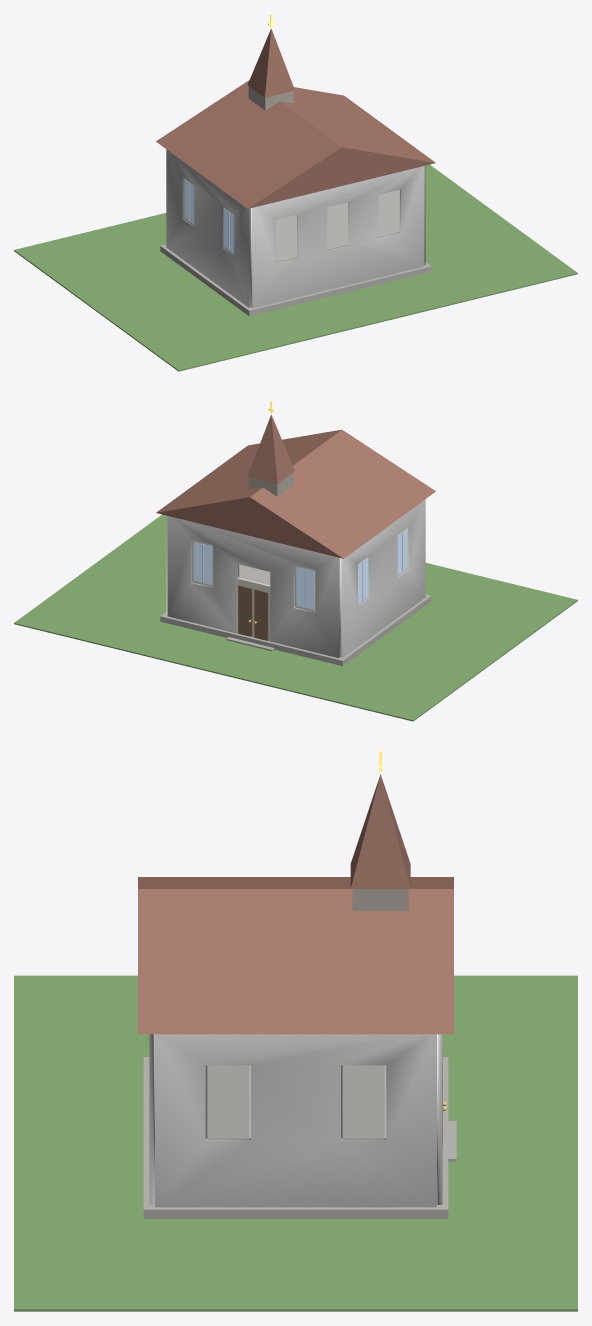
The model's file is church_small.glb.
3 renders of one model, top to bottom at view 1: azimuth 30°, elevation 25°; view 2: azimuth 150°, elevation 25°; view 3: azimuth 270°, elevation 25°, orthographic. The views are drawn at different scales.
Visible parts, largest first — view 1: ground, roof, back_wall, left_wall, frame (×3), foundation, steeple_spire, steeple_base; view 2: ground, roof, front_wall, left_wall, frame (×5), glass (×4), foundation, steeple_spire, panel_l, panel_r, steeple_base, floor; view 3: ground, roof, right_wall, frame (×2), foundation, steeple_spire, steeple_base, front_wall, back_wall.
Part boxes in pixels (x1,y1,x2,y2): ground: [14, 164, 577, 371]; roof: [156, 80, 435, 208]; back_wall: [251, 166, 424, 308]; left_wall: [166, 149, 251, 307]; frame (×3): [276, 189, 399, 262]; foundation: [160, 244, 431, 316]; steeple_spire: [247, 28, 294, 97]; steeple_base: [248, 86, 293, 110]; ground: [14, 514, 577, 721]; roof: [156, 429, 435, 558]; front_wall: [167, 516, 340, 658]; left_wall: [340, 499, 425, 657]; frame (×5): [192, 527, 408, 639]; glass (×4): [193, 529, 407, 610]; foundation: [160, 594, 431, 666]; steeple_spire: [247, 414, 294, 483]; panel_l: [254, 589, 268, 640]; panel_r: [238, 585, 252, 636]; steeple_base: [248, 472, 293, 496]; floor: [239, 564, 270, 584]; ground: [14, 975, 577, 1311]; roof: [138, 877, 453, 1034]; right_wall: [155, 1034, 436, 1207]; frame (×2): [205, 1065, 386, 1139]; foundation: [143, 1057, 448, 1218]; steeple_spire: [350, 774, 410, 888]; steeple_base: [352, 889, 408, 910]; front_wall: [437, 1034, 442, 1204]; back_wall: [149, 1034, 154, 1204].
Bounding box in the file's own units: 14 × 8.05 × 10.
